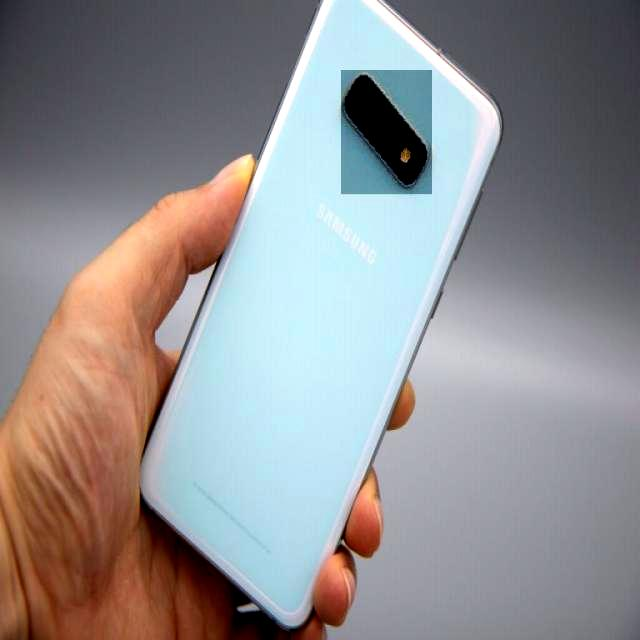lens_back: (372, 114, 410, 158), (350, 89, 383, 127)
